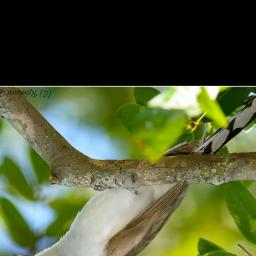Cuckoo: (7, 88, 256, 256)
